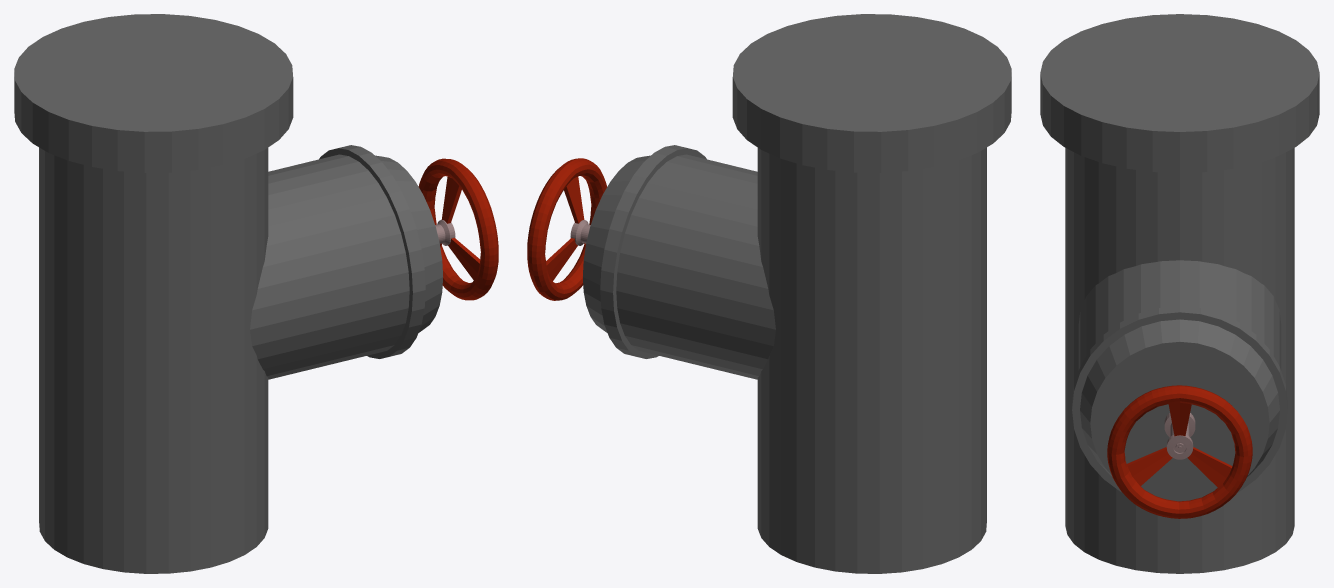
Rendered from Pipe_TwistyPart.fbx.
3 renders of one model, left to right at view 1: azimuth 30°, elevation 25°; view 2: azimuth 150°, elevation 25°; view 3: azimuth 270°, elevation 25°, orthographic.
Visible parts, largest first — view 1: Circle; view 2: Circle; view 3: Circle.
Part boxes in pixels (bbox=[...]): Circle: bbox=[14, 14, 498, 573]; Circle: bbox=[527, 14, 1011, 573]; Circle: bbox=[1040, 14, 1319, 573].
Size of the model in its own units: 139 by 139 by 77.62.
